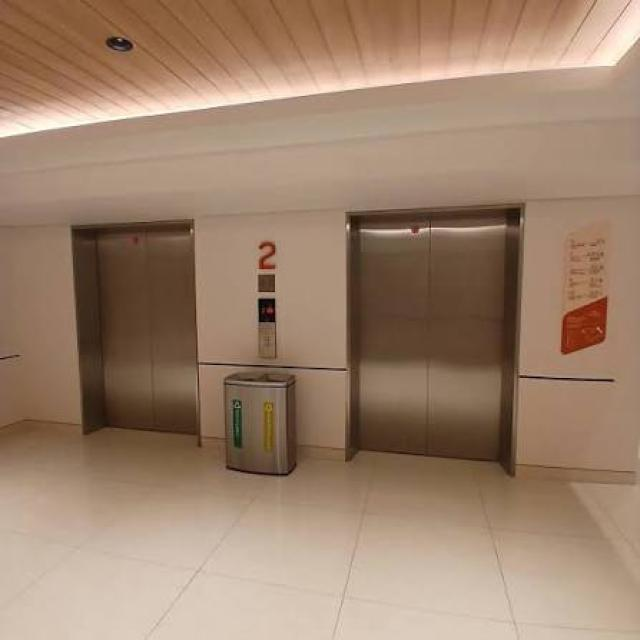elevator: (62, 195, 533, 485)
